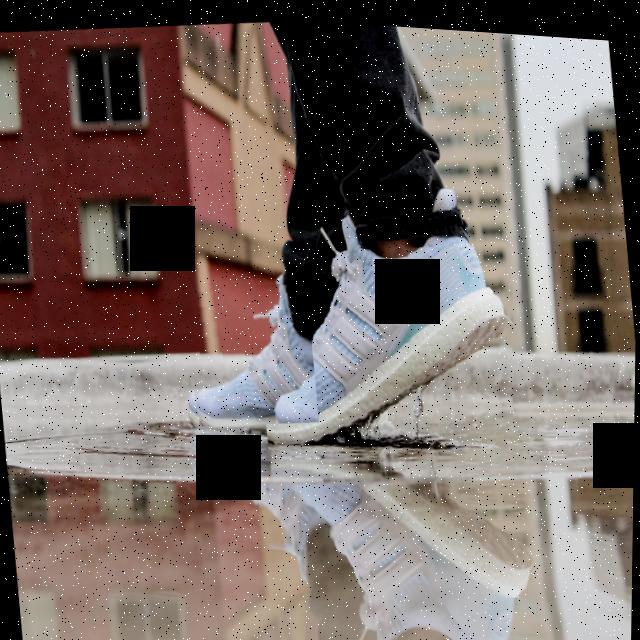shoe: (249, 223, 531, 459), (177, 268, 321, 430)
